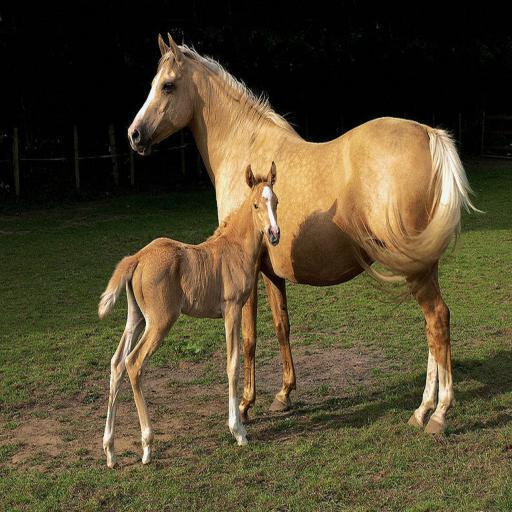horse: (127, 27, 486, 436), (98, 162, 281, 470)
